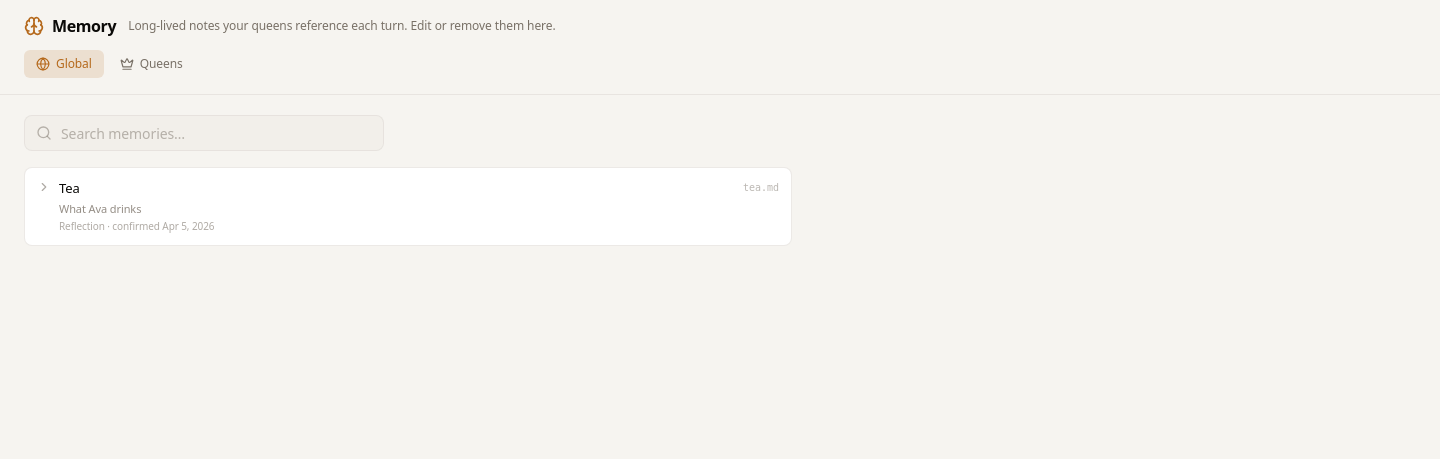
Test: MemoryLibrary › shows a memory's history and puts an earlier version back
Later steps or results of the test are not shown.
Click the text "Tea": (69, 188) top-left (59, 179), bottom-right (80, 197)
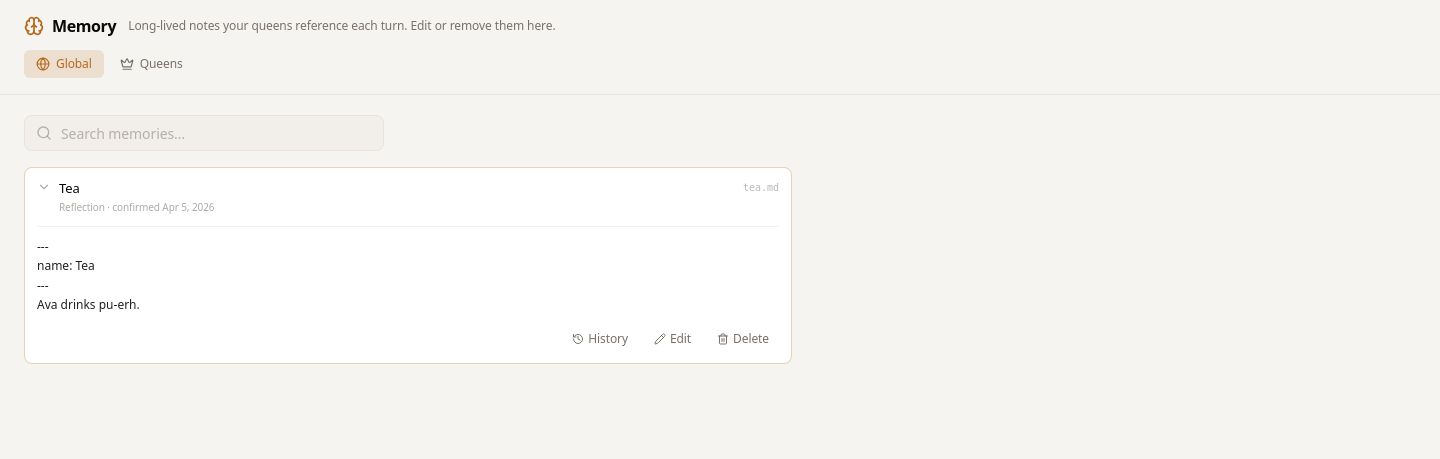
Click the button "History": (600, 339) top-left (562, 327), bottom-right (638, 351)
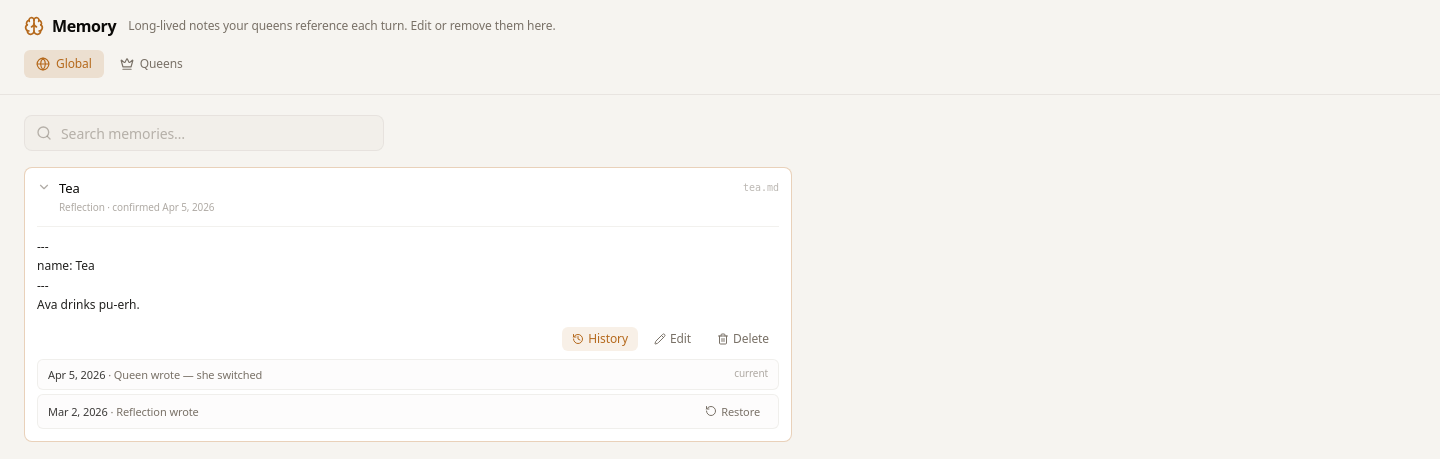
Now the list item "Apr 5, 2026 · Queen wrote — she switched current" is shown, box top-left (37, 359), bottom-right (779, 390)
